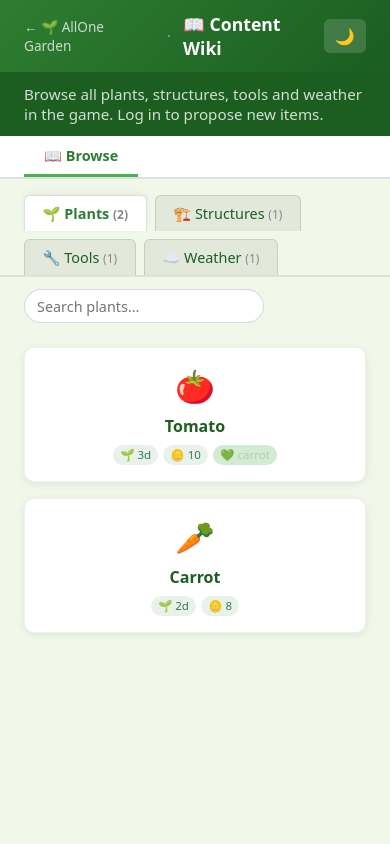
Test: ContentWikiPage — tab switching › switches to Weather tab
The width and height of the screenshot is (390, 844).
Check: the text "Tomato" is shown, box [165, 415, 225, 437]
Click the button "☁️ Weather (1)" at (211, 257), box [144, 239, 278, 275]
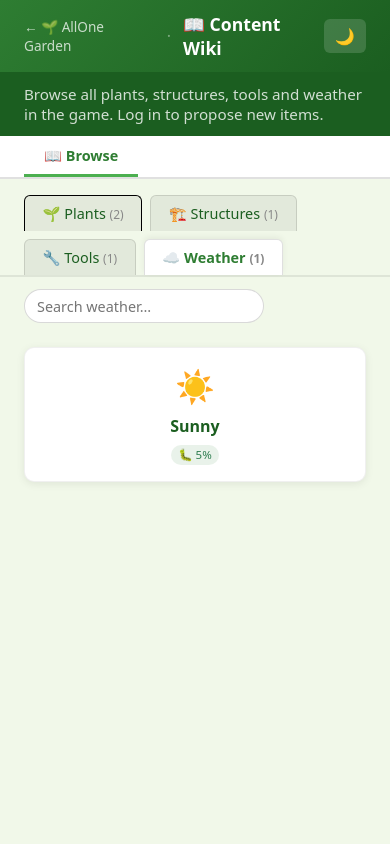
Check: the text "Sunny" is shown, box [170, 415, 220, 437]
